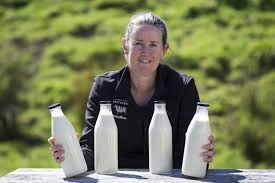milk: (44, 100, 84, 183), (90, 99, 123, 177), (183, 100, 214, 178), (146, 99, 177, 174)
